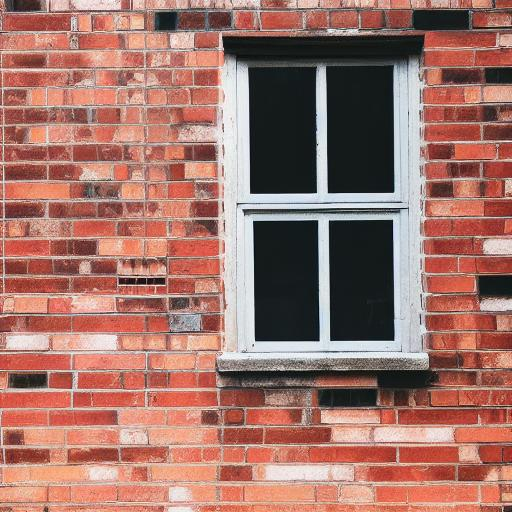Window: (213, 30, 435, 376)
